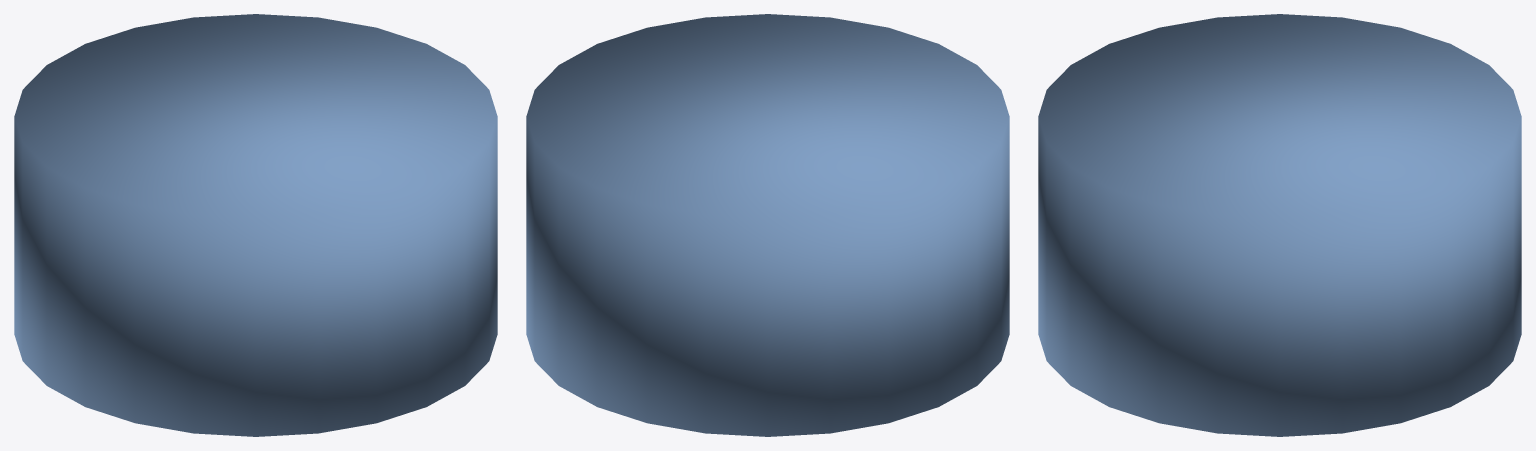
The model's file is KRM_M09_Cylinder.002.fbx.
3 renders of one model, left to right at view 1: azimuth 30°, elevation 25°; view 2: azimuth 150°, elevation 25°; view 3: azimuth 270°, elevation 25°, orthographic.
Parts seen in each view (by area): view 1: KRM_M09_Cylinder.002; view 2: KRM_M09_Cylinder.002; view 3: KRM_M09_Cylinder.002.
Part boxes in pixels (bbox=[...]): KRM_M09_Cylinder.002: bbox=[14, 14, 497, 436]; KRM_M09_Cylinder.002: bbox=[526, 14, 1009, 436]; KRM_M09_Cylinder.002: bbox=[1038, 14, 1521, 436].
Size of the model in its own units: 200 by 100 by 200.
1 material, 1 textured.
